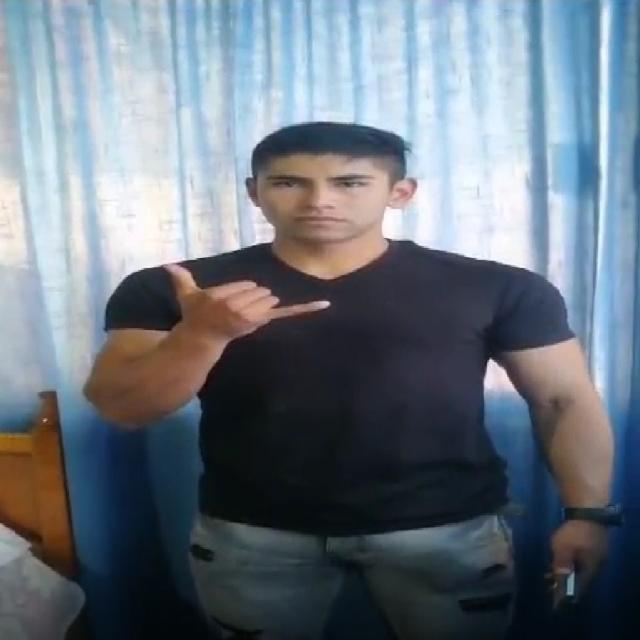Y: (111, 212, 372, 439)
